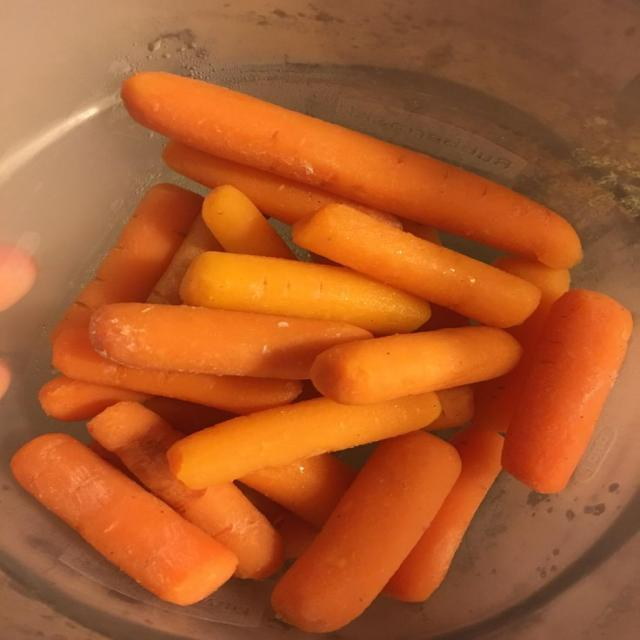carrot: (122, 72, 581, 267), (12, 434, 236, 604), (272, 432, 460, 632), (87, 402, 283, 578), (294, 205, 539, 327), (502, 290, 632, 493), (168, 393, 440, 488), (51, 184, 202, 342), (90, 303, 372, 379), (53, 327, 300, 413), (163, 141, 401, 227), (181, 252, 430, 334), (385, 428, 503, 601), (474, 257, 570, 432), (312, 327, 521, 405), (240, 453, 355, 527), (240, 454, 355, 527), (202, 185, 294, 259), (147, 216, 222, 304), (241, 487, 318, 559), (39, 376, 148, 421), (145, 397, 234, 434), (0, 243, 37, 311), (427, 385, 473, 431), (276, 511, 318, 559), (87, 440, 136, 481), (418, 305, 469, 331), (418, 305, 468, 330), (402, 220, 442, 245), (0, 360, 11, 399)
